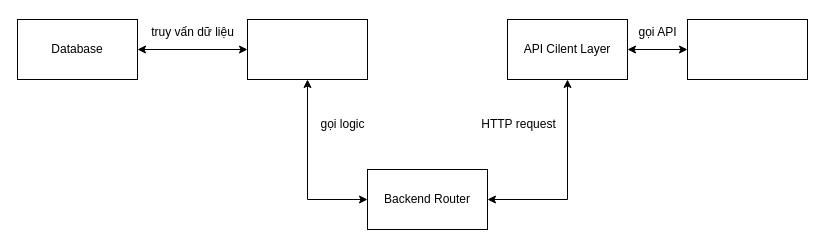
Image size: 825x247. Some labels were removed from this diagram. The shapes that lost their labels are listed below. From the top down, each one's box as (x1, y1, x2, y2) in pixels, then its label:
(246, 18, 368, 80): Backend Service Layer
(686, 18, 808, 80): UI
